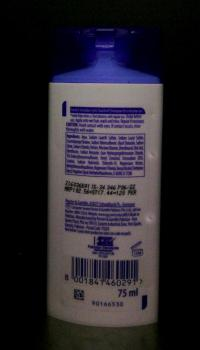dent_marginal: (146, 206, 158, 230), (147, 107, 161, 124), (148, 145, 160, 163)
